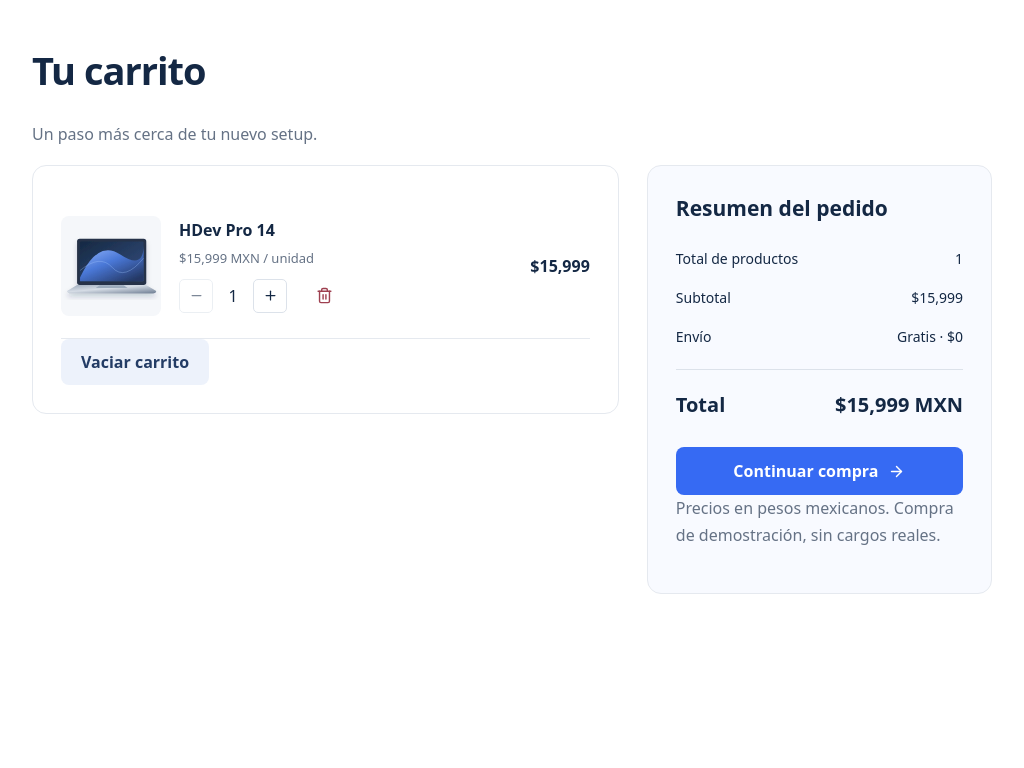
Test: Cart › muestra productos y permite aumentar, disminuir y eliminar
Expected: the heading "HDev Pro 14" is shown, [179,219,275,241]
Click the button named "Aumentar cantidad de HDev Pro 14".
click(270, 296)  # box [253,279,287,313]
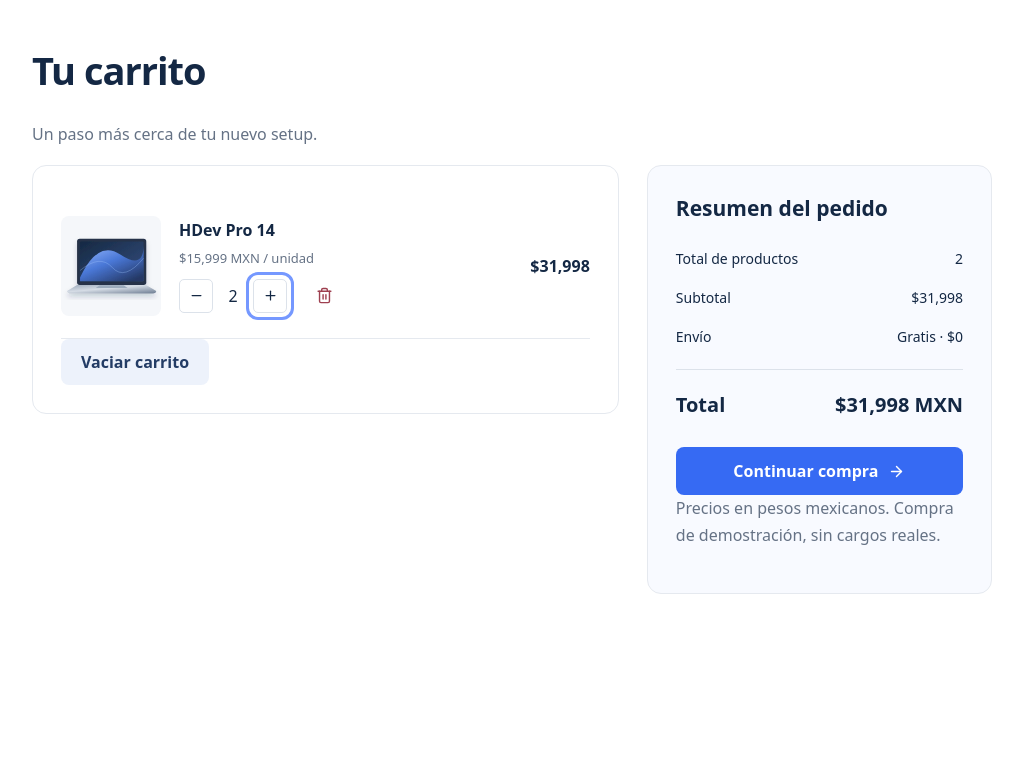
Now the text named "Cantidad de HDev Pro 14" reads "2", box [228,285,238,307]
Click the button named "Disminuir cantidad de HDev Pro 14".
click(196, 296)  # box [179,279,213,313]
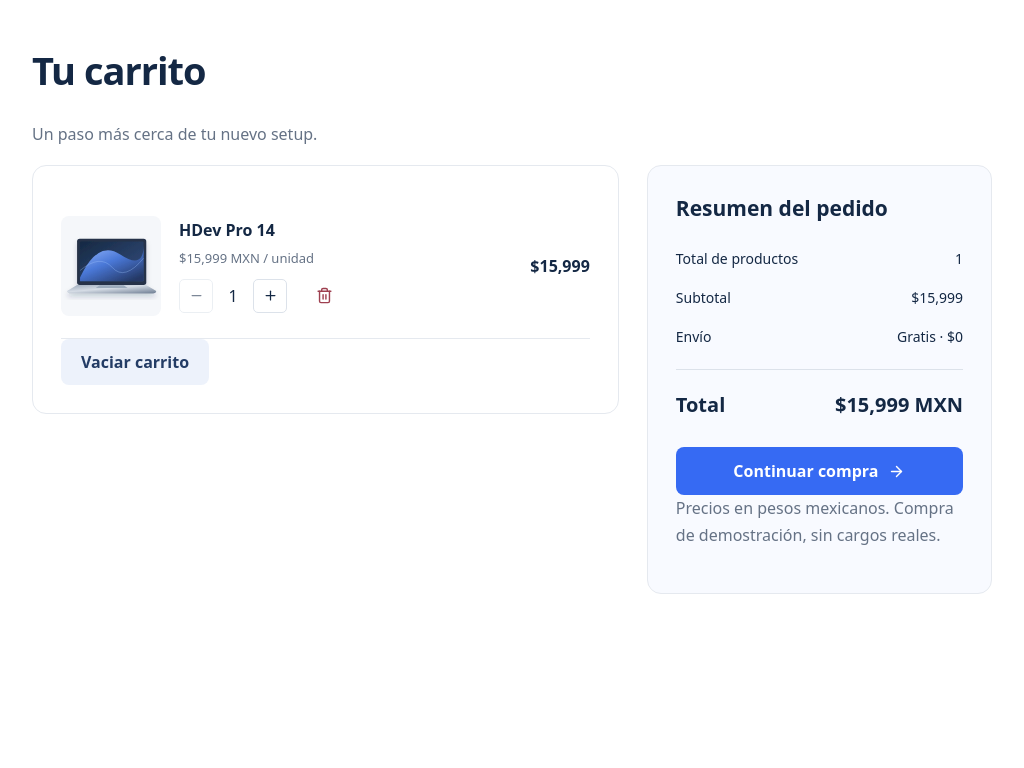
Now the text named "Cantidad de HDev Pro 14" reads "1", box [228,285,238,307]
Click the button named "Eliminar HDev Pro 14".
click(324, 296)  # box [307,279,341,313]
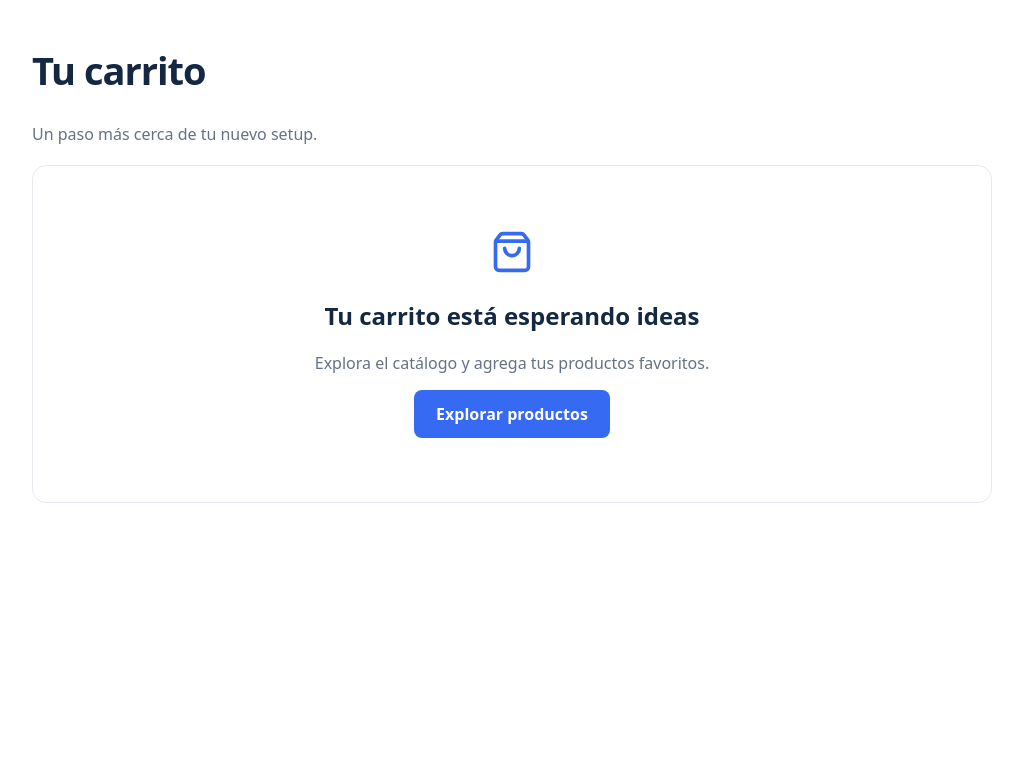
Now the heading "Tu carrito está esperando ideas" is shown, box [324,299,700,332]
